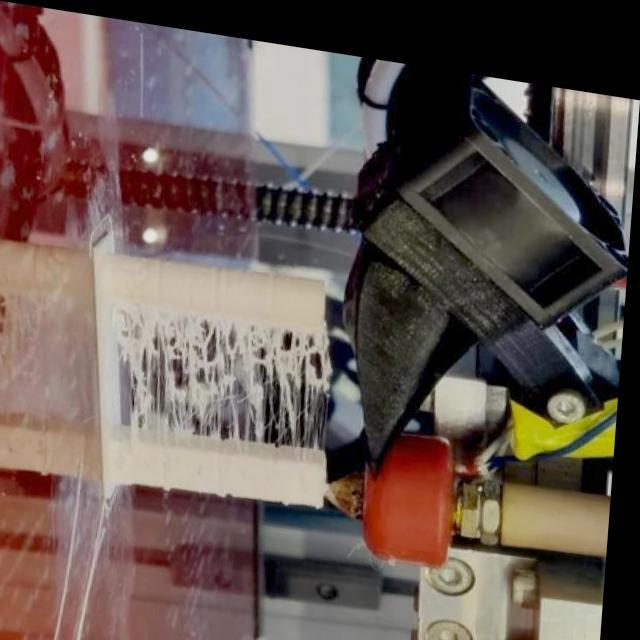stringing: (173, 305, 264, 426), (122, 304, 192, 418), (258, 319, 333, 425)
